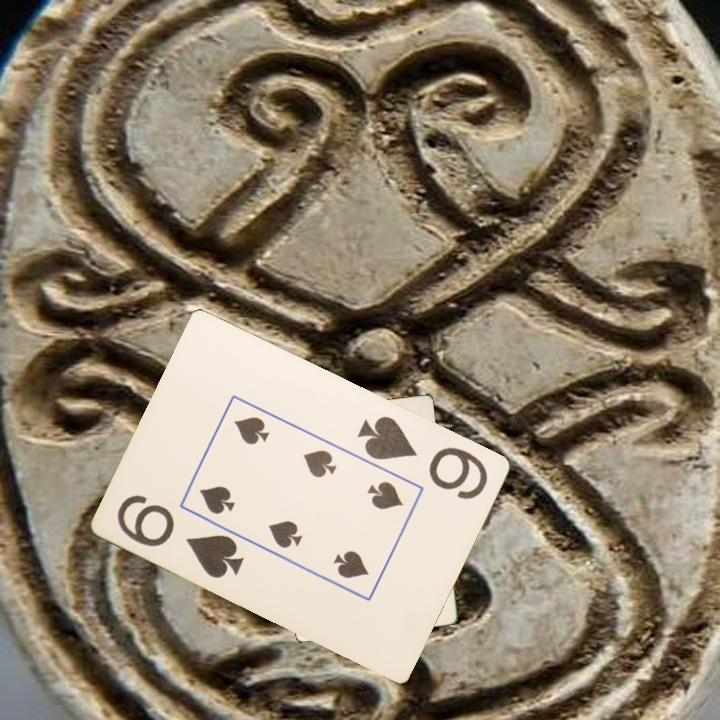6s: (354, 412, 492, 503), (113, 491, 248, 582)
